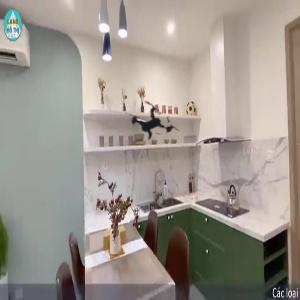drone: (113, 82, 195, 164)
